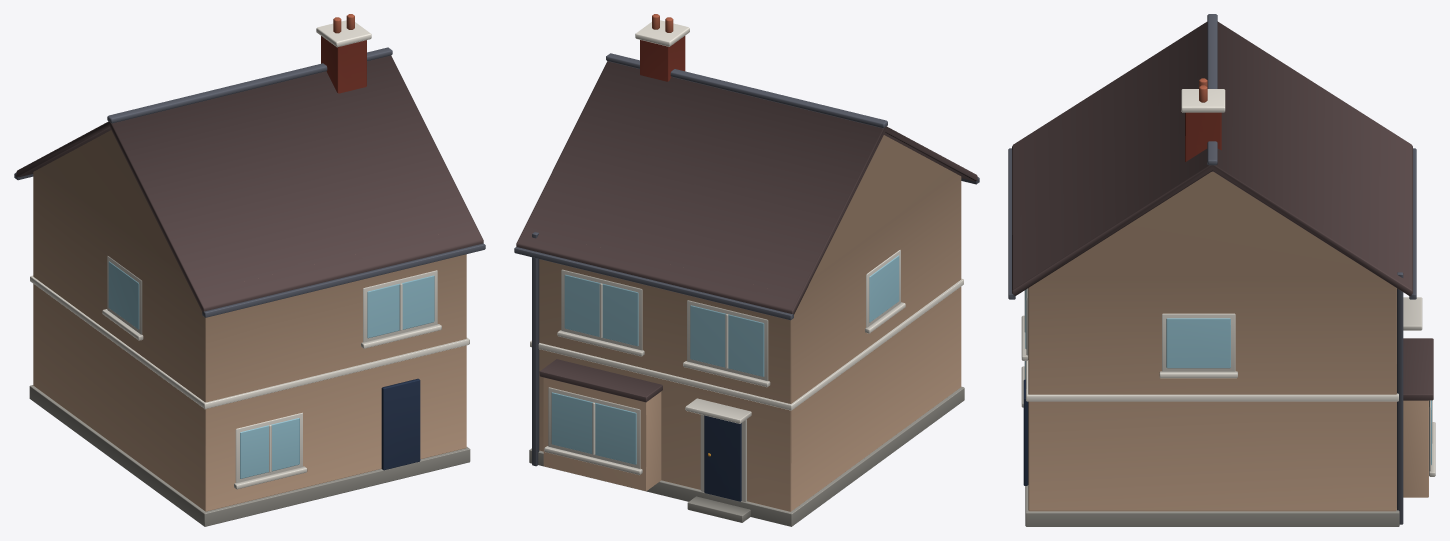
The model's file is house_c.glb.
3 renders of one model, left to right at view 1: azimuth 30°, elevation 25°; view 2: azimuth 150°, elevation 25°; view 3: azimuth 270°, elevation 25°, orthographic. The views are drawn at different scales.
Parts seen in each view (by area): view 1: Body, Roof; view 2: Body, Roof; view 3: Body, Roof.
Boxes of the visible parts, x1,y1,x2,y2 form: Body: (14, 130, 485, 526); Roof: (16, 14, 483, 311); Body: (514, 135, 979, 526); Roof: (516, 14, 977, 314); Body: (1008, 148, 1435, 526); Roof: (1012, 14, 1412, 295).
Size of the model in its own units: 7.54 by 10.1 by 9.27.
Materials: 1 (1 with a texture image).
